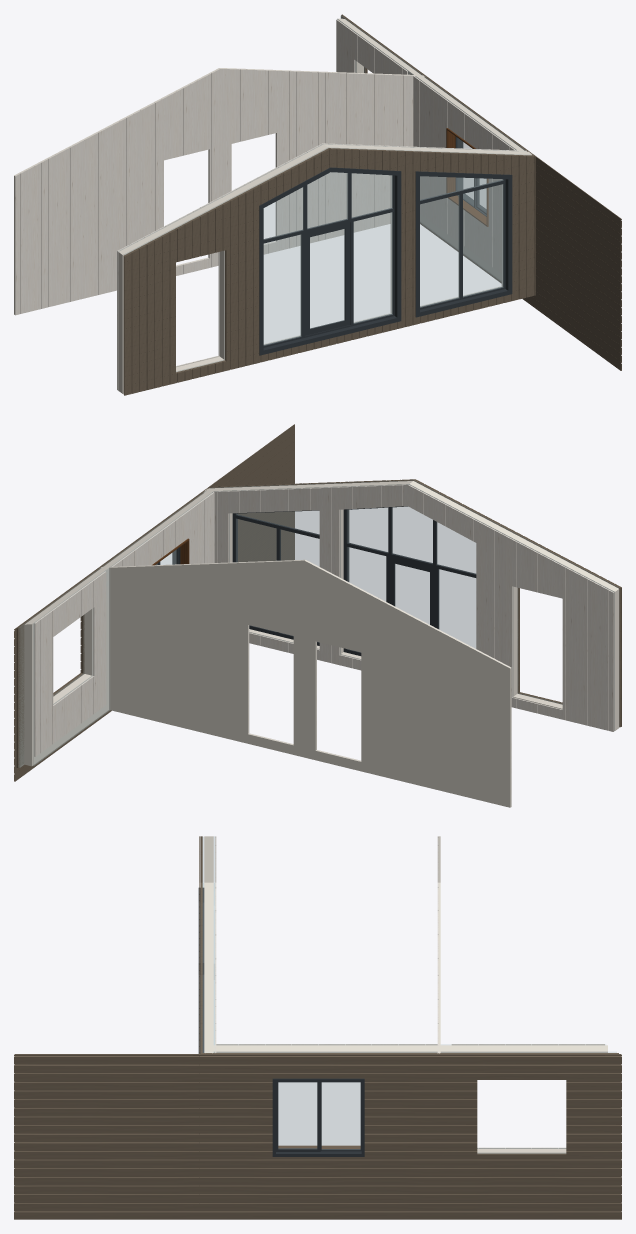
File: control.glb
3 views of the same model, one above another, from view 1: azimuth 30°, elevation 25°; view 2: azimuth 150°, elevation 25°; view 3: azimuth 270°, elevation 25° (orthographic). The views are drawn at different scales.
Parts seen in each view (by area): view 1: wall_interior_living, window_south_living, wall_south_living, wall_east_living, window_east_living; view 2: wall_interior_living, wall_south_living, wall_east_living, window_south_living, window_east_living; view 3: wall_east_living, window_east_living, wall_south_living, window_south_living, wall_interior_living.
Boxes of the visible parts, x1=… form: wall_interior_living: x1=14, y1=68, x2=424, y2=315; window_south_living: x1=259, y1=167, x2=512, y2=355; wall_south_living: x1=117, y1=143, x2=535, y2=395; wall_east_living: x1=336, y1=14, x2=621, y2=370; window_east_living: x1=446, y1=128, x2=488, y2=226; wall_interior_living: x1=99, y1=559, x2=511, y2=807; wall_south_living: x1=203, y1=479, x2=621, y2=731; wall_east_living: x1=14, y1=424, x2=294, y2=781; window_south_living: x1=232, y1=506, x2=476, y2=655; window_east_living: x1=152, y1=538, x2=189, y2=565; wall_east_living: x1=14, y1=1044, x2=621, y2=1219; window_east_living: x1=272, y1=1078, x2=364, y2=1156; wall_south_living: x1=199, y1=836, x2=216, y2=1203; window_south_living: x1=198, y1=887, x2=204, y2=1053; wall_interior_living: x1=437, y1=836, x2=440, y2=1053.
Size of the model in its own units: 8.17 by 3.96 by 9.58.
Materials: 6 (3 with a texture image).
